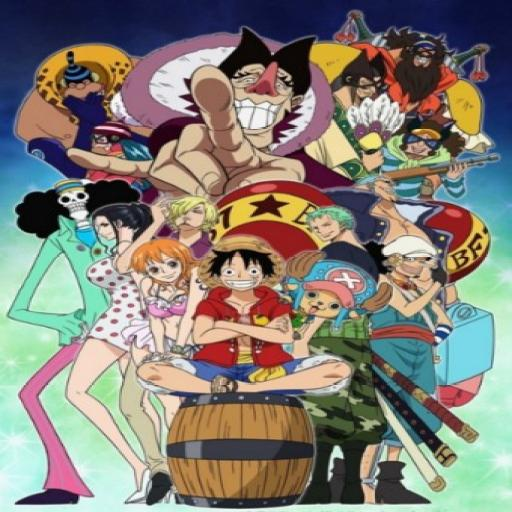Luffy: (191, 234, 286, 299)
Nami: (122, 233, 202, 291)
NicoRobin: (80, 198, 156, 252)
Usopp: (369, 231, 464, 283)
Zoro: (298, 205, 373, 248)
sanji: (142, 189, 232, 237)
